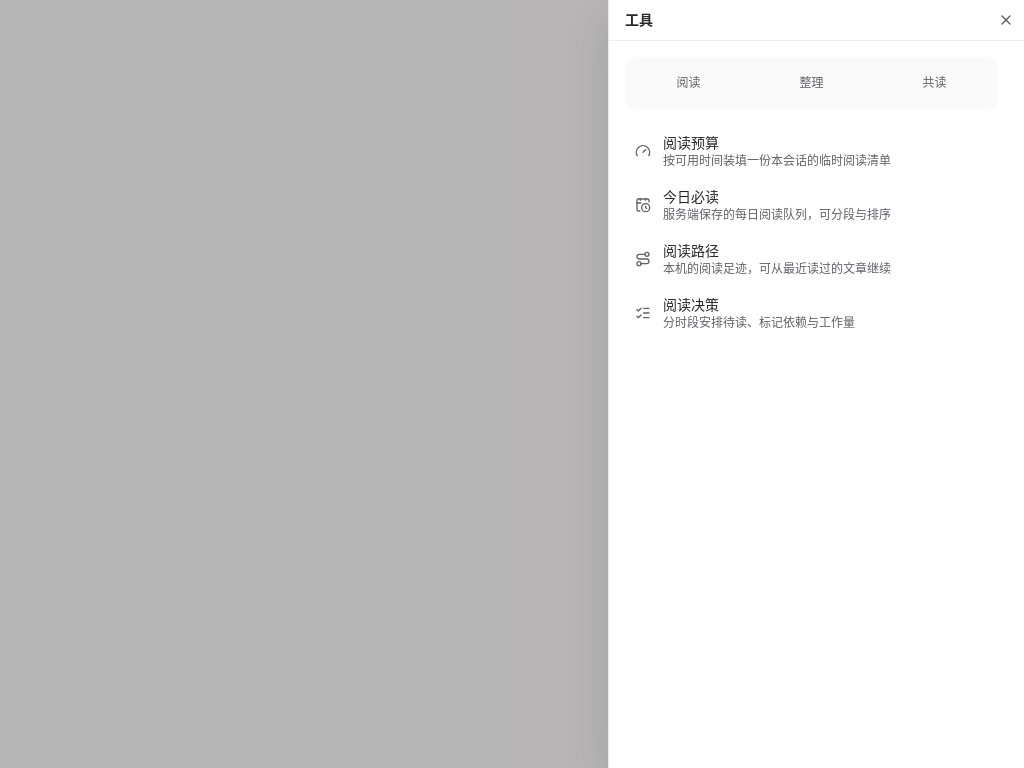
Test: ToolsDrawer — 面板内二级视图（返回栈在抽屉内） › 面板自身「关闭」= 回工具列表（不关抽屉）
Click the button with test id "tools-drawer-item-budget" at (812, 151), box [625, 125, 998, 177]
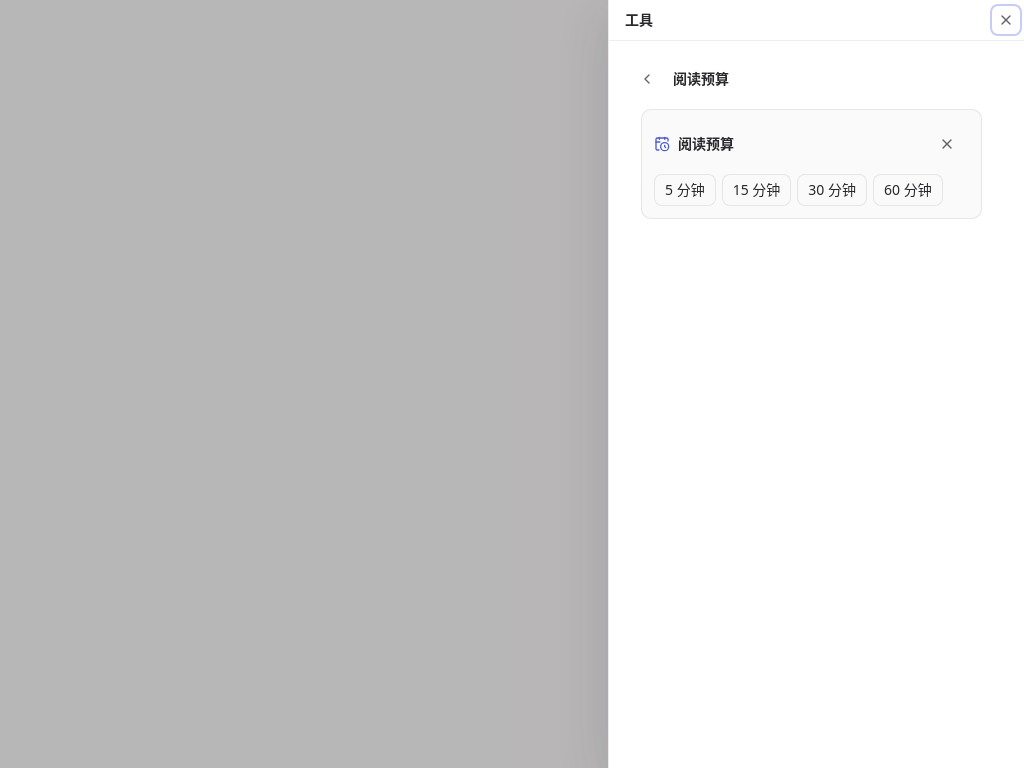
# 阅读预算面板挂载（零请求）；其关闭按钮在面板 chrome 内
Click the button named "关闭阅读预算" at (947, 144), box [925, 122, 969, 166]
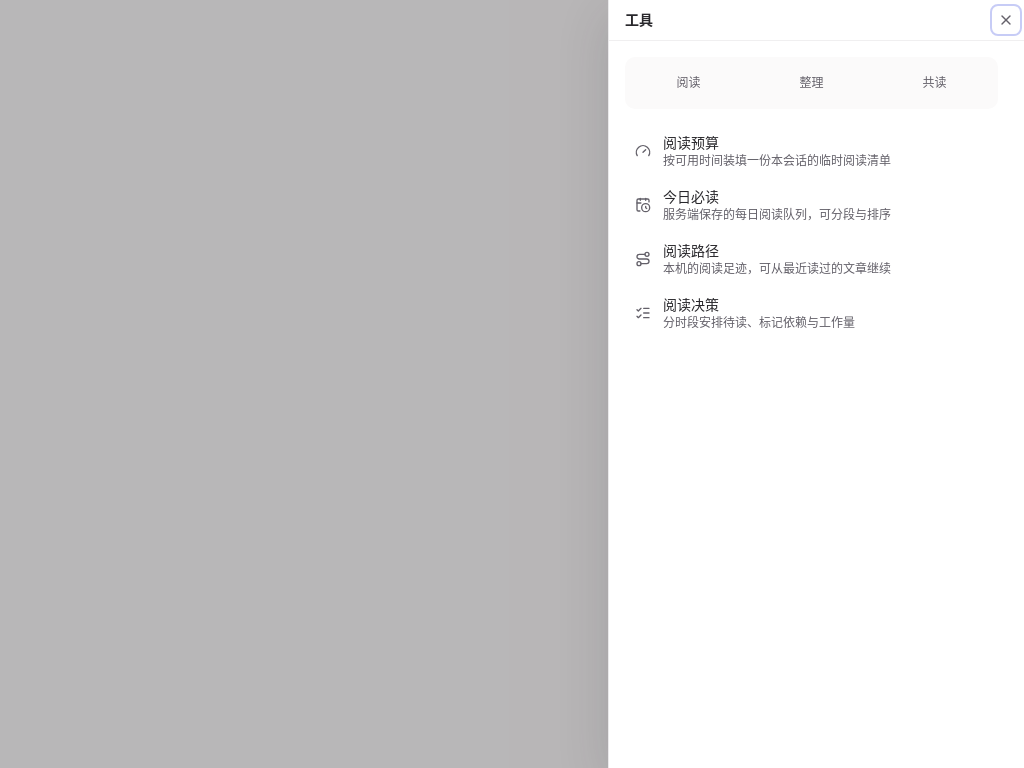
Expected: the button with test id "tools-drawer-item-budget" is shown, [625, 125, 998, 177]
Expected: the element with test id "tools-drawer-secondary" is gone
